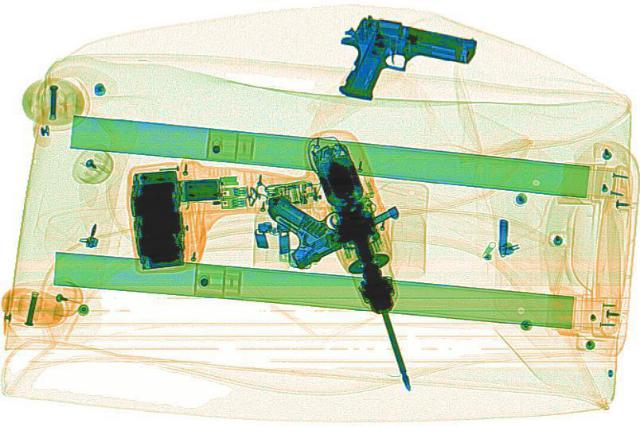Gun: (228, 162, 406, 269), (311, 10, 484, 113)
